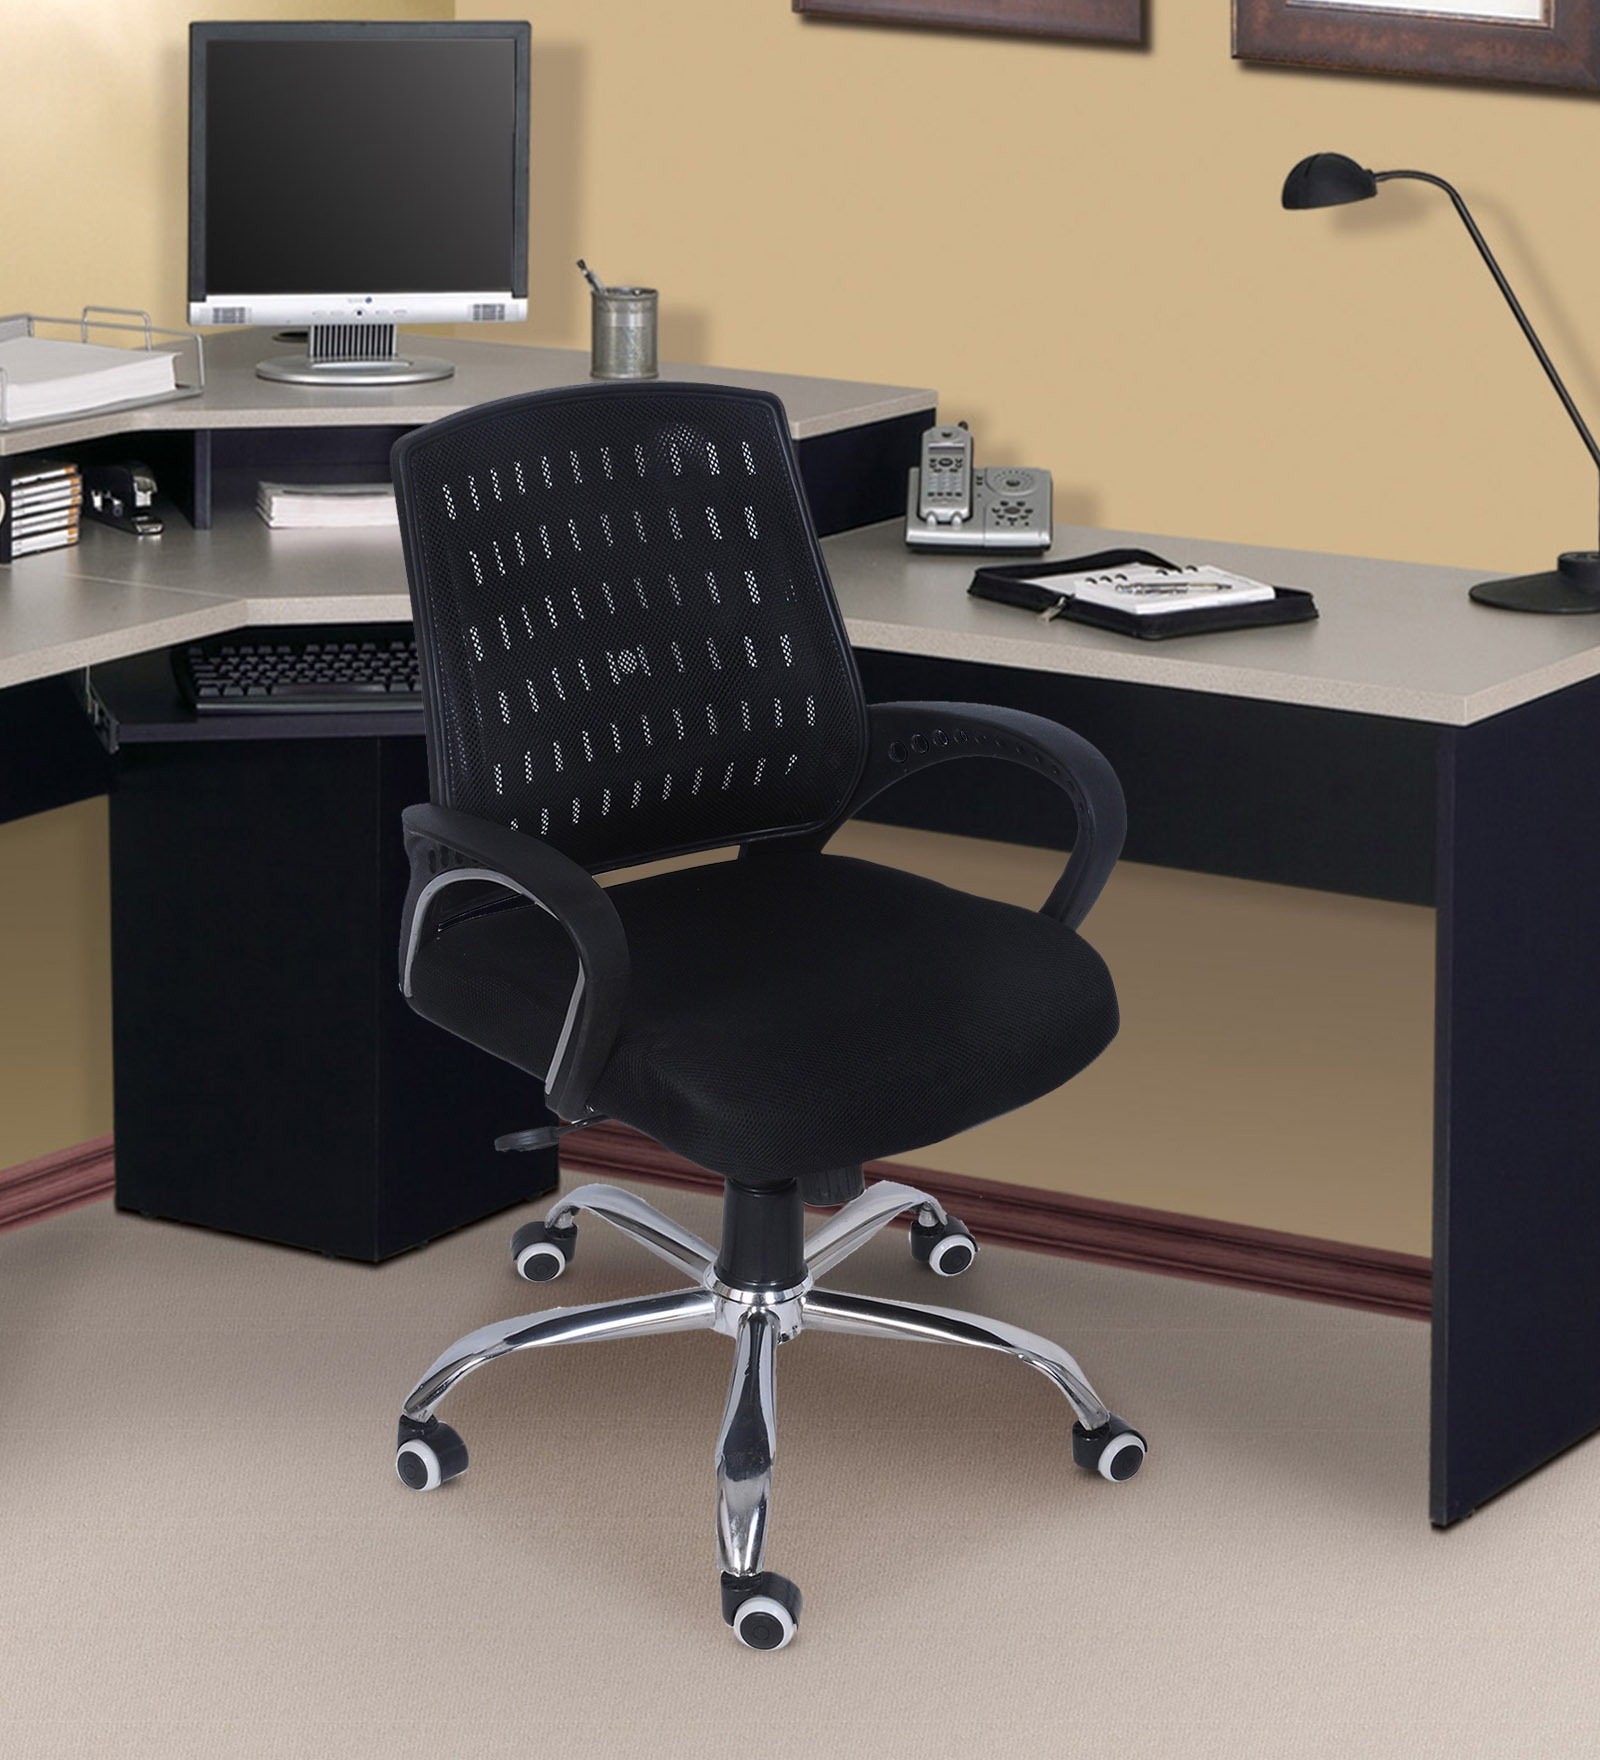Briny Mid Back Ergonomic Chair By Furniease: (352, 366, 1182, 1653)
